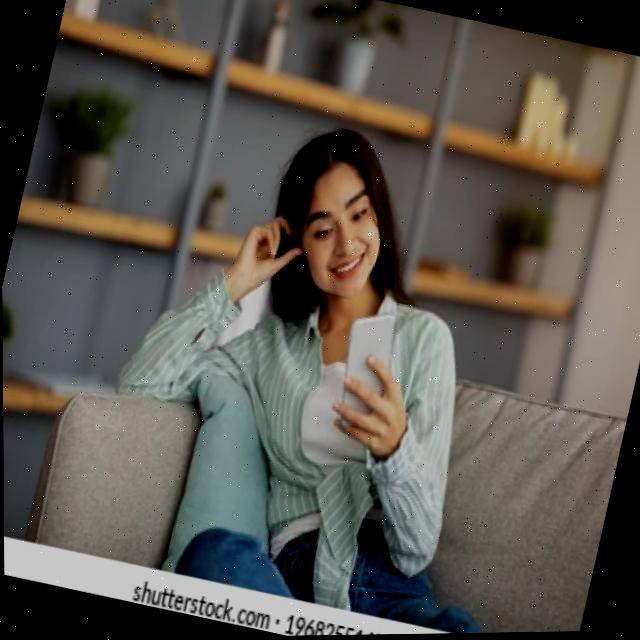smartphone-person: (87, 75, 533, 591)
